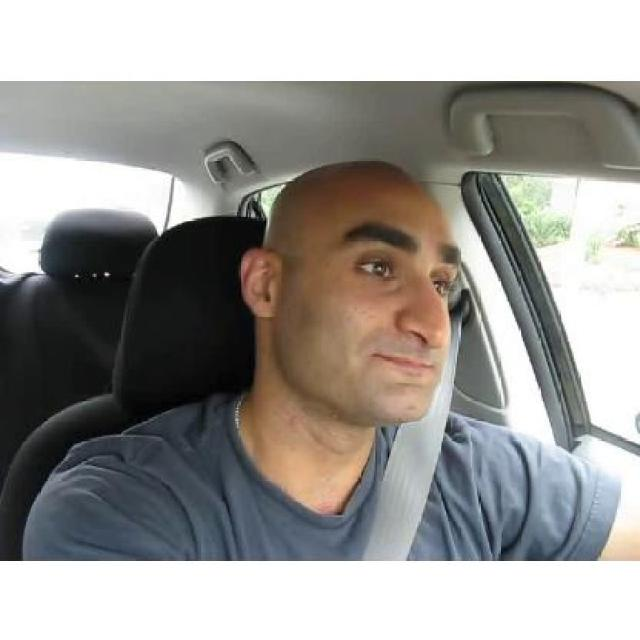attentif: (240, 159, 458, 423)
